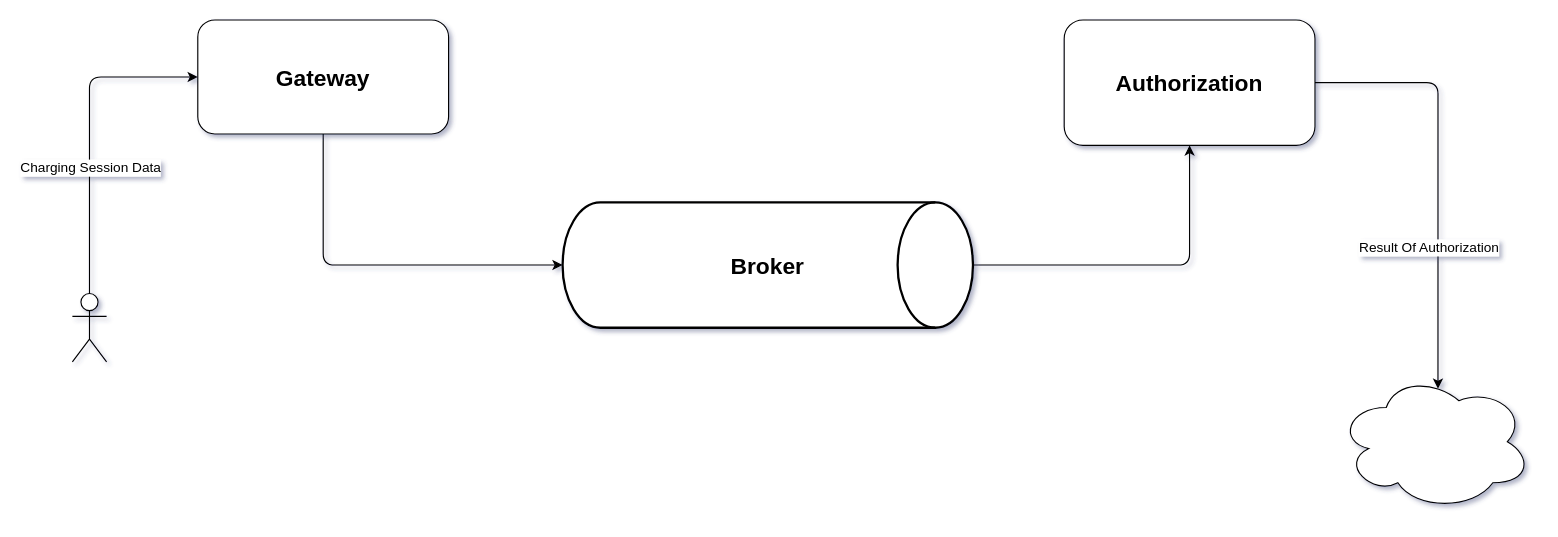
This 1558x537 diagram has some shape labels left out. The centre of each missing label's shape, as x and y in pixels:
"CallBack URL" goes at pixel 1434 441.
"Charging Station" goes at pixel 89 327.
